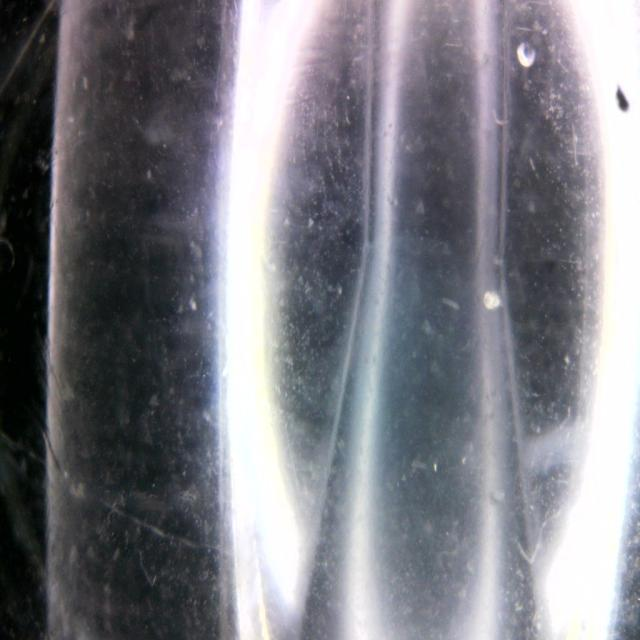pipe: (300, 10, 540, 640)
